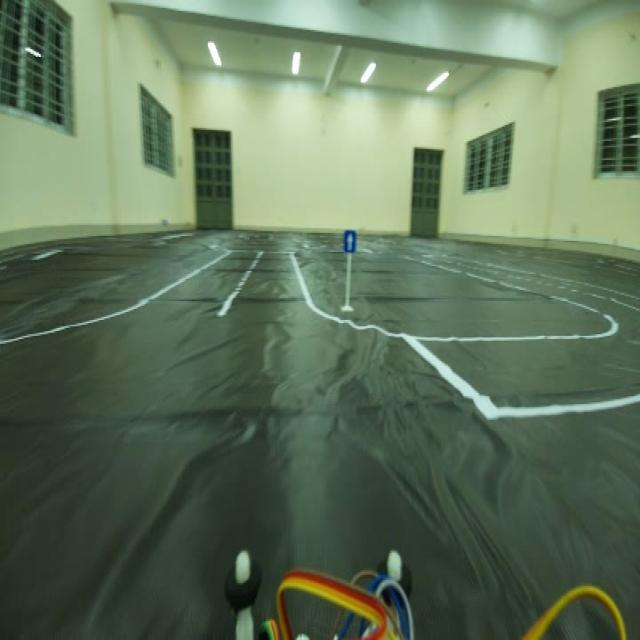onewayroad: (340, 226, 358, 256)
